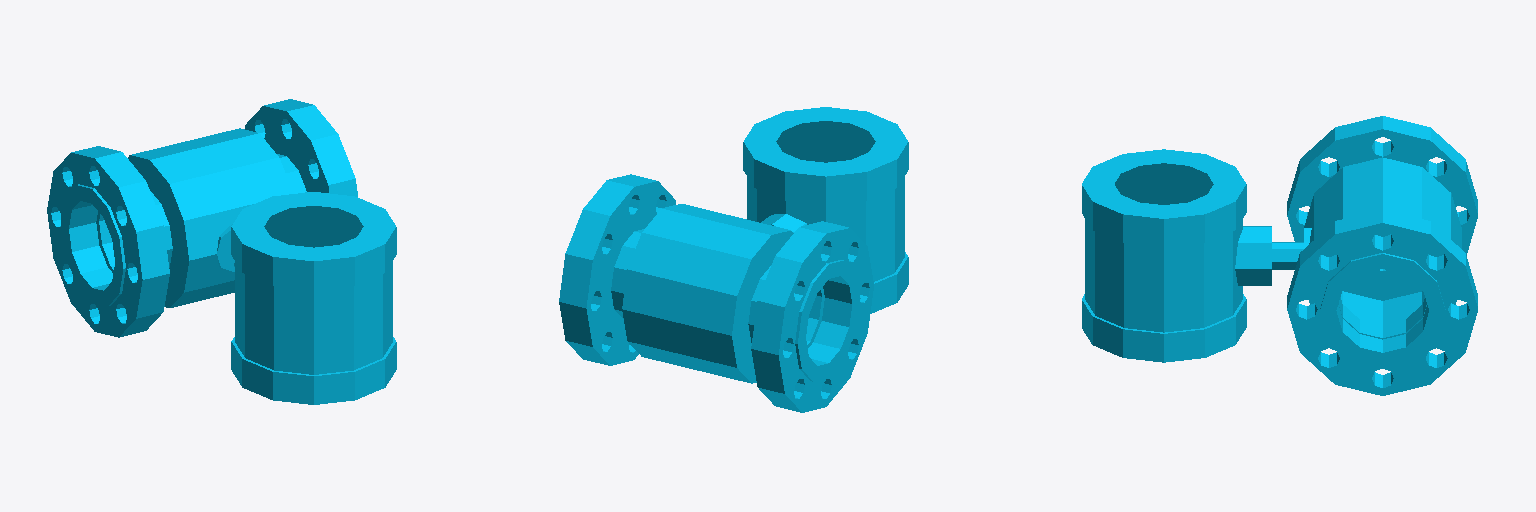
File: liluliangji.obj
The picture shows the model from 3 angles: view 1: azimuth 30°, elevation 25°; view 2: azimuth 150°, elevation 25°; view 3: azimuth 270°, elevation 25°; orthographic projection.
Visible parts, largest first — view 1: liuliangji; view 2: liuliangji; view 3: liuliangji.
Boxes of the visible parts, box(x1,y1,x2,y2) form: liuliangji: box(47, 99, 396, 404); liuliangji: box(559, 107, 908, 412); liuliangji: box(1082, 116, 1477, 395).
Bounding box in the file's own units: 32.8 × 24.14 × 50.08.